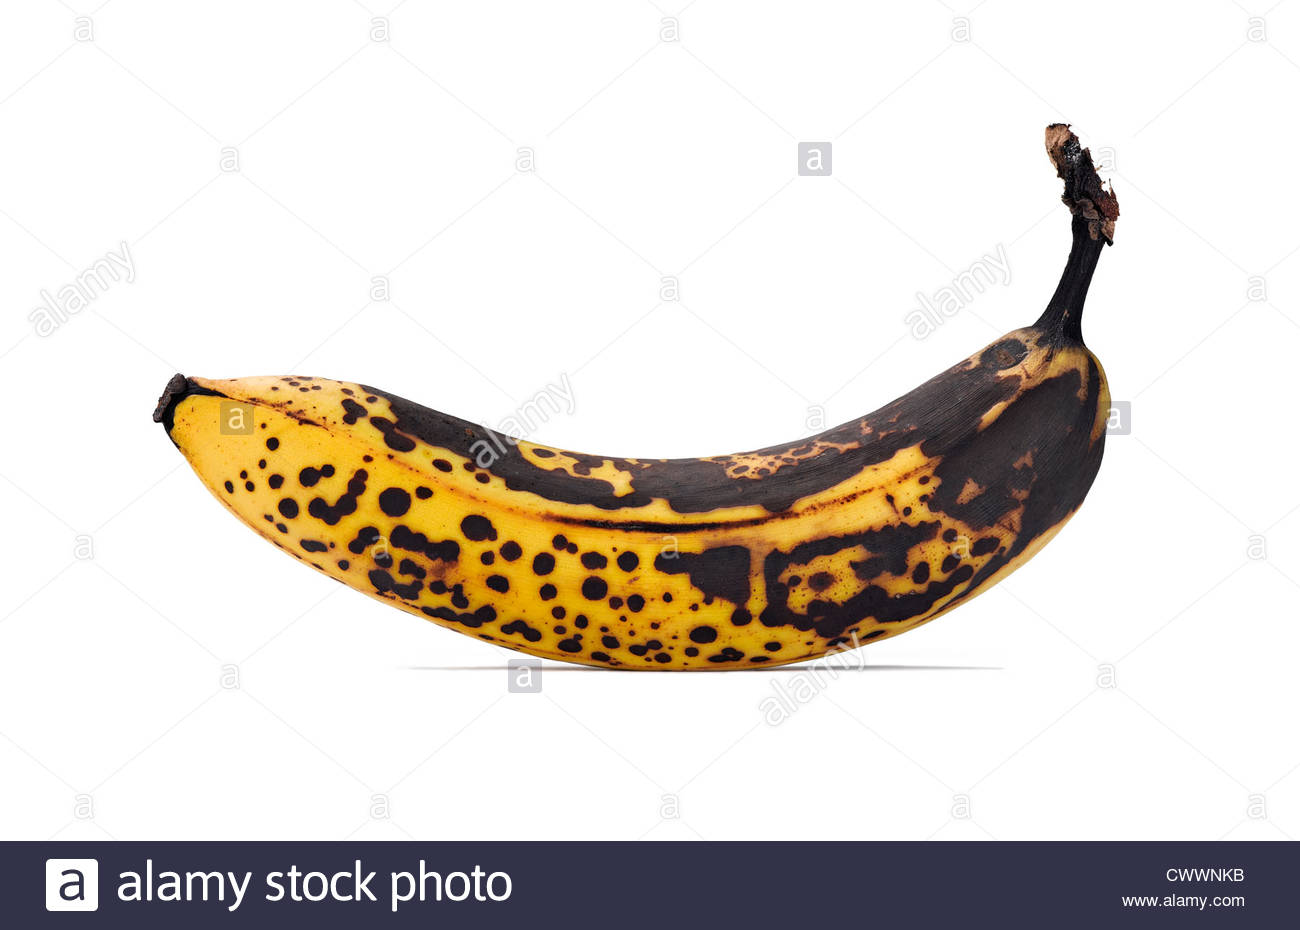damaged_banana: (180, 332, 1171, 691)
